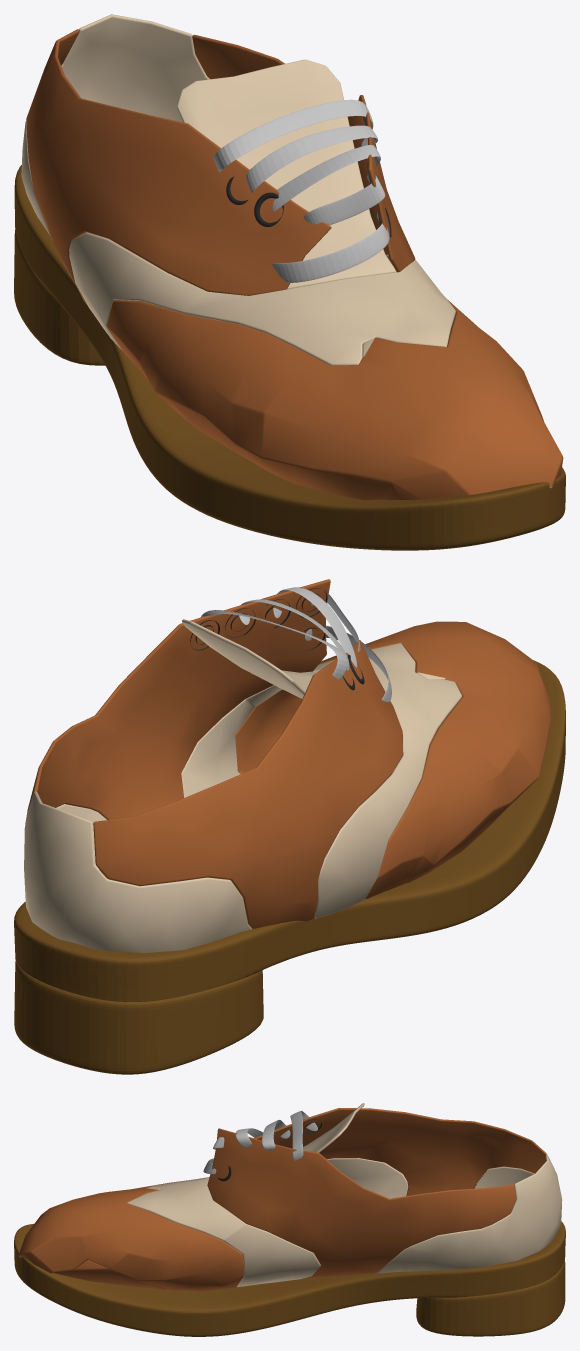
File: za2in3derecha.fbx
3 views of the same model, one above another, from view 1: azimuth 30°, elevation 25°; view 2: azimuth 150°, elevation 25°; view 3: azimuth 270°, elevation 25° (orthographic). The views are drawn at different scales.
Parts seen in each view (by area): view 1: zapato2, Plane, Plane.004, Plane.005, Plane.003, Plane.001, Plane.002; view 2: zapato2, Plane, Plane.001, Plane.004; view 3: zapato2, Plane, Plane.004, Plane.003, Plane.001.
Boxes of the visible parts, bbox=[...] form: zapato2: bbox=[21, 14, 563, 499]; Plane: bbox=[14, 165, 565, 550]; Plane.004: bbox=[213, 99, 373, 171]; Plane.005: bbox=[272, 212, 389, 282]; Plane.003: bbox=[246, 125, 377, 192]; Plane.001: bbox=[272, 145, 380, 211]; Plane.002: bbox=[303, 174, 385, 225]; zapato2: bbox=[24, 579, 550, 952]; Plane: bbox=[14, 660, 565, 1074]; Plane.001: bbox=[273, 587, 357, 667]; Plane.004: bbox=[200, 610, 347, 679]; zapato2: bbox=[18, 1103, 562, 1291]; Plane: bbox=[14, 1221, 565, 1336]; Plane.004: bbox=[290, 1110, 317, 1160]; Plane.003: bbox=[262, 1119, 290, 1150]; Plane.001: bbox=[235, 1128, 262, 1148].
Size of the model in its own units: 169 by 176 by 447.
